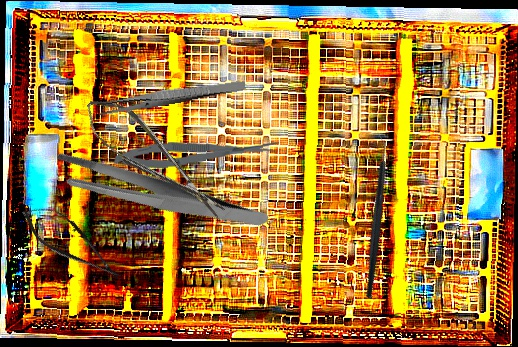Chopper: (310, 132, 438, 300)
Dressing Forceps: (47, 108, 271, 280), (96, 76, 247, 117)
Micro Scissor: (75, 85, 233, 234), (14, 193, 131, 293), (113, 136, 280, 172)
